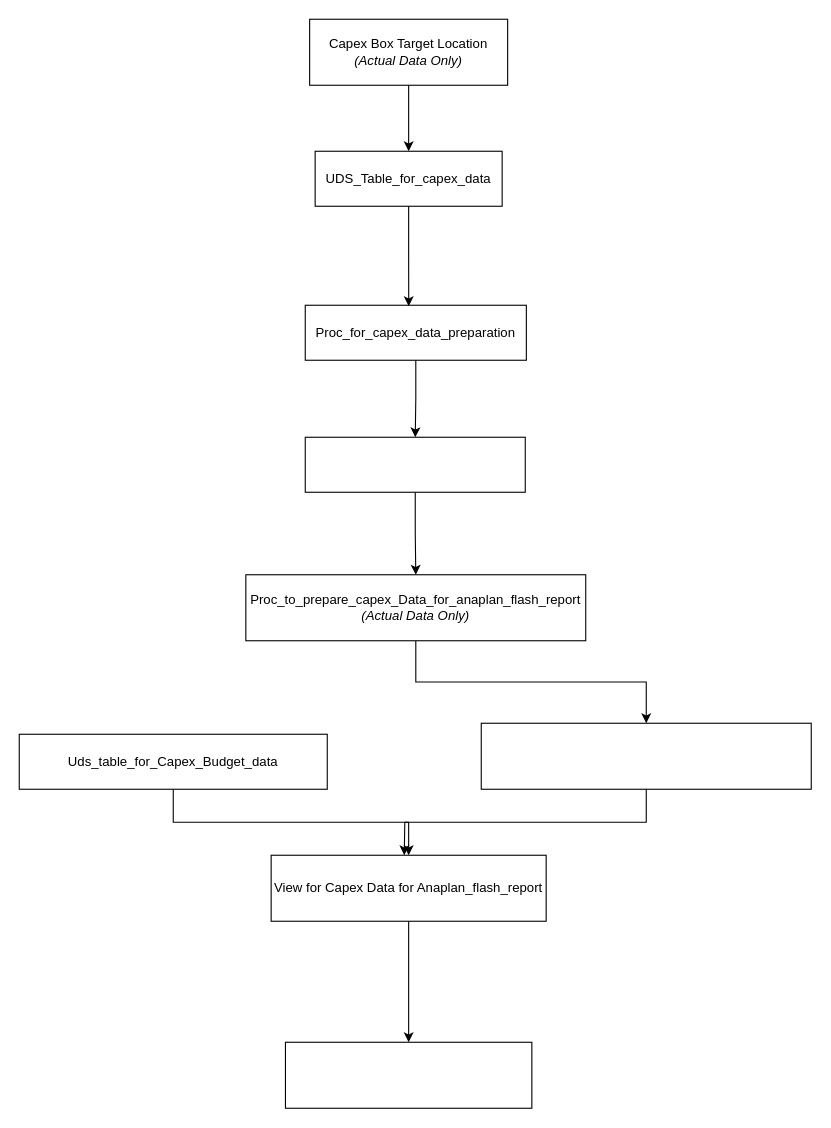
Some shapes in this 831 by 1128 pixel diagram are drawn without their labels. Each missing label, with the centre of its shape:
Capex_anaplan_flash_report_dataset: the point at 408,1074
Pds_table_for_Capex_anaplan_flash_report_data: the point at 645,755
Pds_table_for_capex_Data: the point at 414,464
